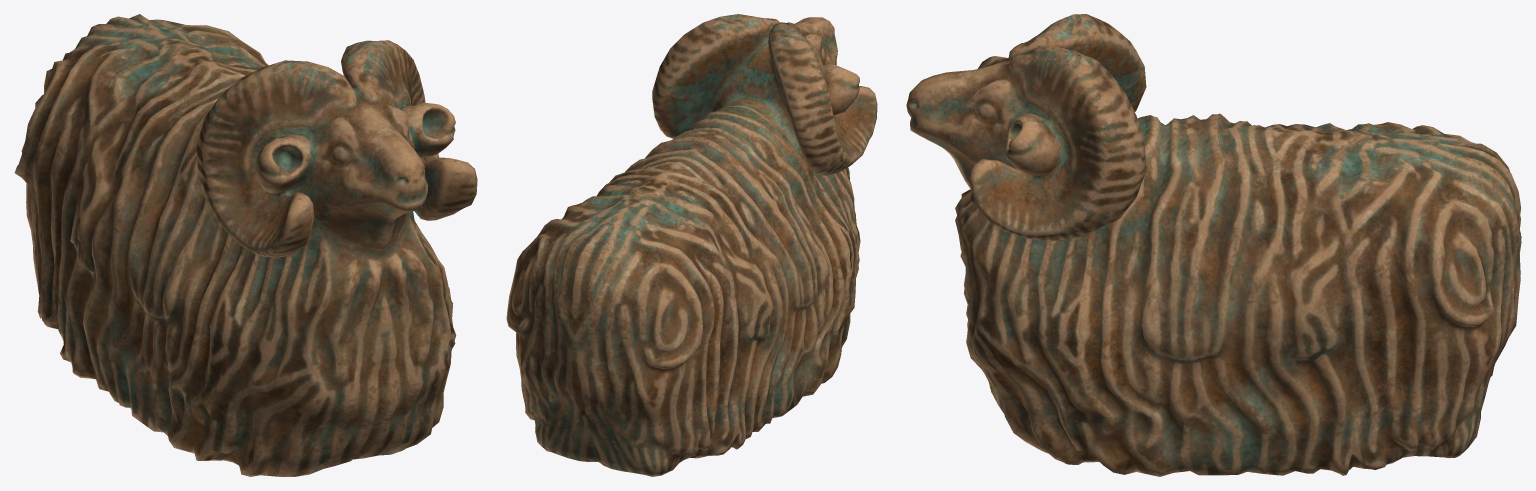
File: garden_ram_bronze_statue_b26fd36b.glb
3 renders of one model, left to right at view 1: azimuth 30°, elevation 25°; view 2: azimuth 150°, elevation 25°; view 3: azimuth 270°, elevation 25°, orthographic. The views are drawn at different scales.
Parts seen in each view (by area): view 1: garden_ram_bronze_statue_b26fd36b; view 2: garden_ram_bronze_statue_b26fd36b; view 3: garden_ram_bronze_statue_b26fd36b.
Part boxes in pixels (x1,y1,x2,y2): garden_ram_bronze_statue_b26fd36b: (14,14,477,476); garden_ram_bronze_statue_b26fd36b: (506,14,877,476); garden_ram_bronze_statue_b26fd36b: (906,14,1521,476).
Bounding box in the file's own units: 0.6987 × 1 × 1.44.
1 material, 1 textured.
